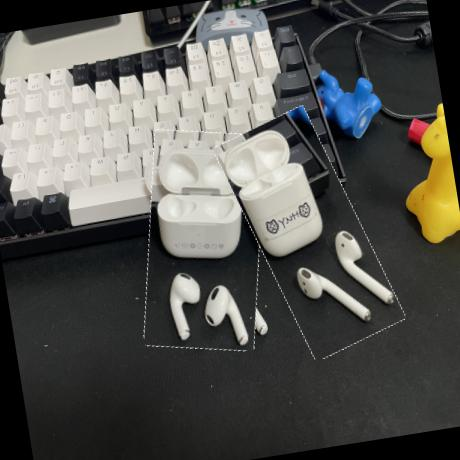airpod2: (225, 101, 394, 365)
airpod3: (121, 118, 286, 362)
